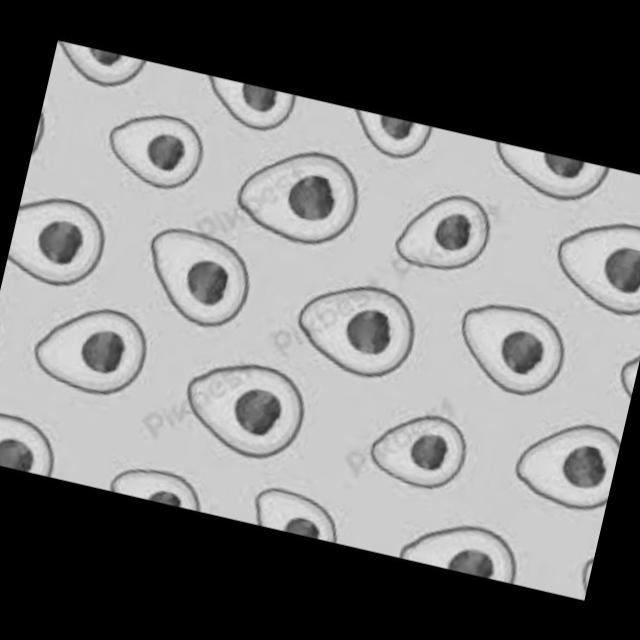avocado: (209, 114, 379, 254), (150, 335, 323, 470), (270, 257, 441, 382), (8, 287, 162, 424), (425, 268, 577, 406), (326, 388, 479, 515), (117, 212, 263, 336), (525, 172, 640, 328), (362, 488, 532, 586), (376, 175, 504, 292), (494, 404, 620, 518), (89, 96, 215, 206), (0, 186, 109, 302), (458, 136, 605, 212), (172, 70, 328, 138), (60, 449, 202, 512), (222, 476, 350, 544), (329, 106, 436, 176), (0, 409, 75, 481), (49, 42, 142, 92)
